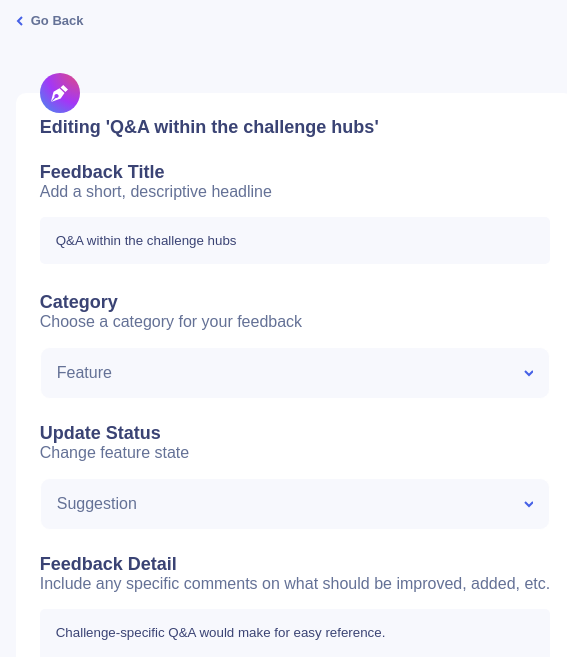
Test case: Edit Feedback page › should open category dropdown
Click the element with test id "category-dropdown". click: (295, 373)
box: x1=40 y1=347 x2=550 y2=399
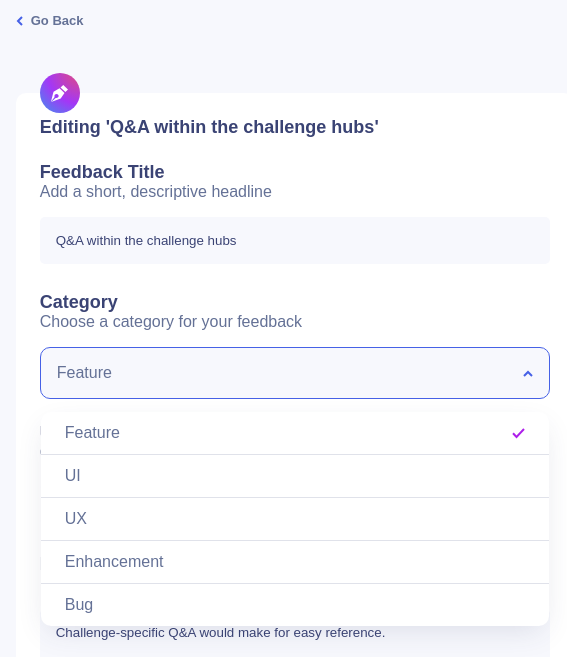
Result: the list item with test id "category-1" is shown at x1=65 y1=424 x2=525 y2=441
Result: the list item with test id "category-2" is shown at x1=65 y1=467 x2=81 y2=484
Result: the list item with test id "category-3" is shown at x1=65 y1=510 x2=87 y2=527
